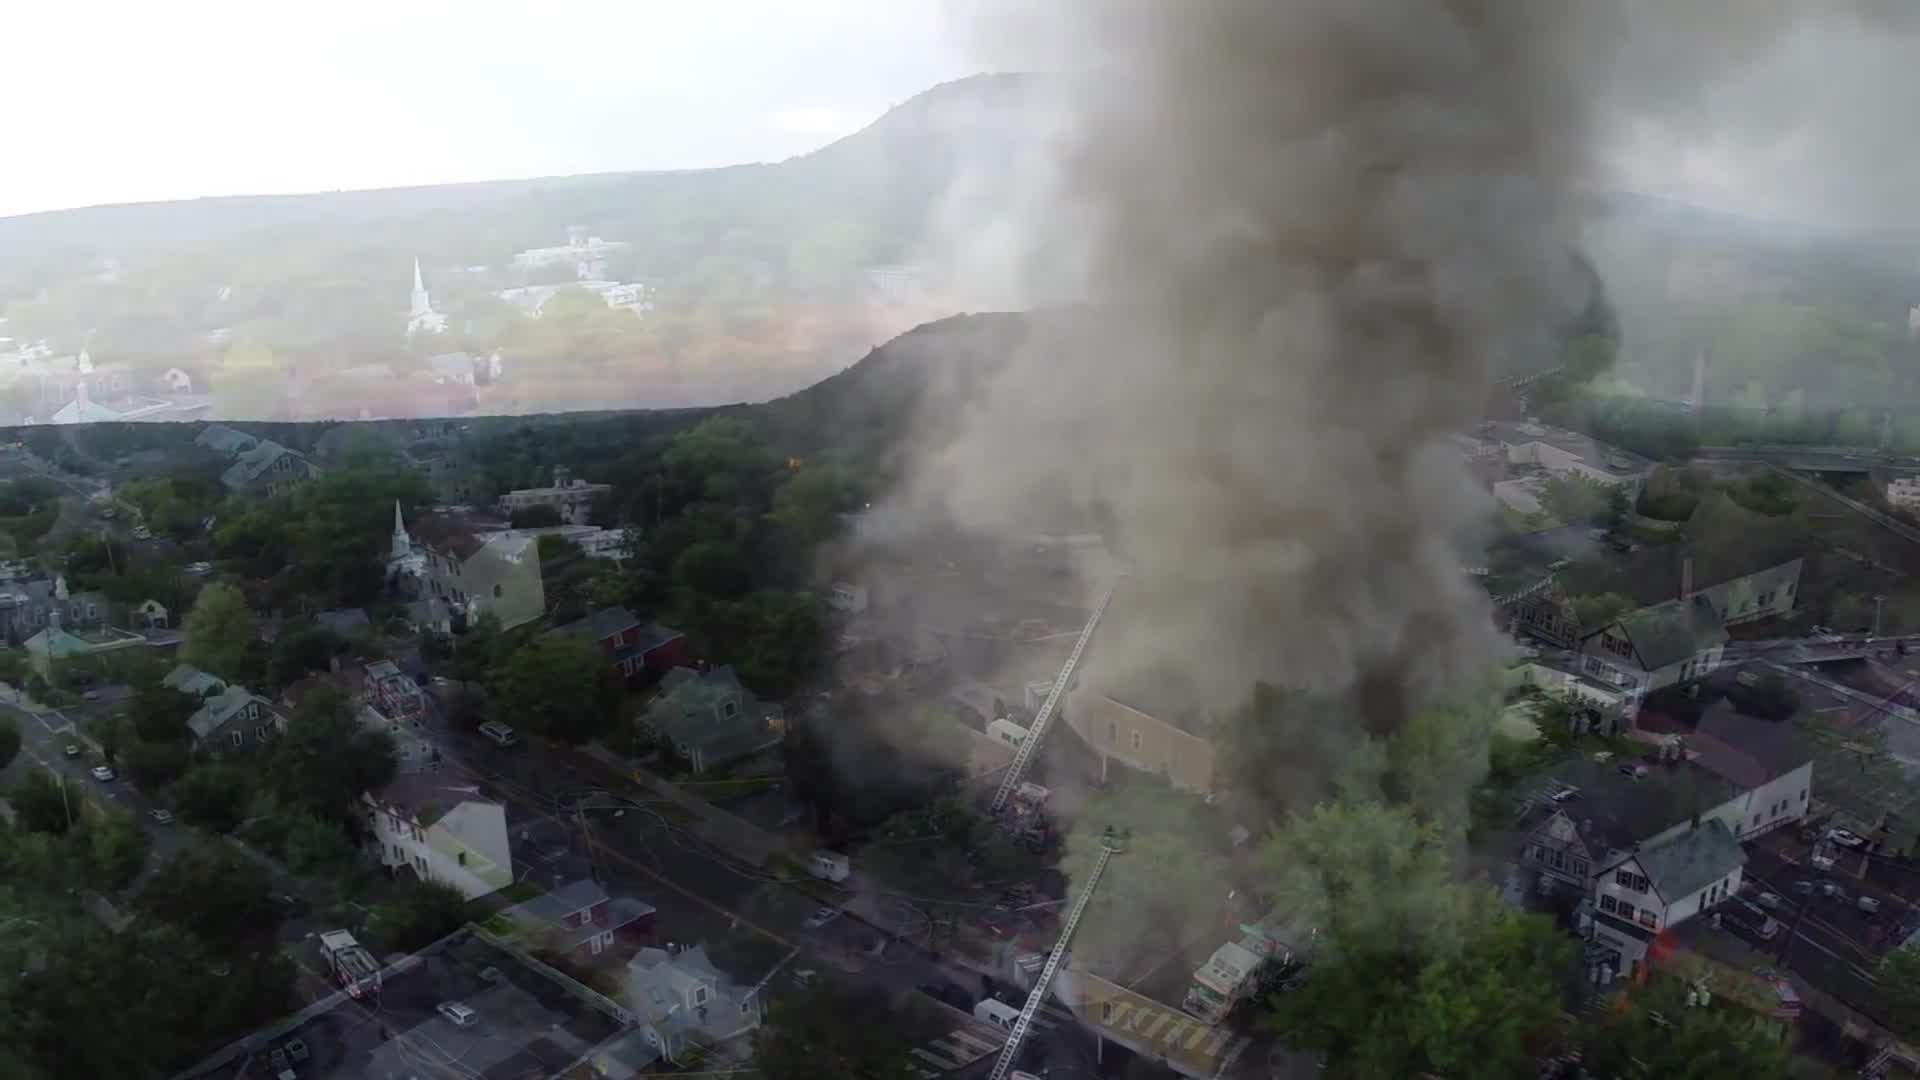smoke: (827, 0, 1596, 824), (1600, 0, 1920, 407)
